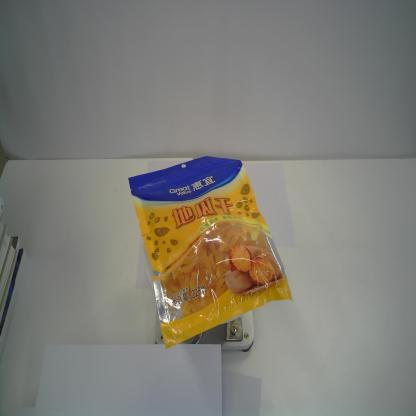Dried Fruit: (127, 155, 293, 351)
